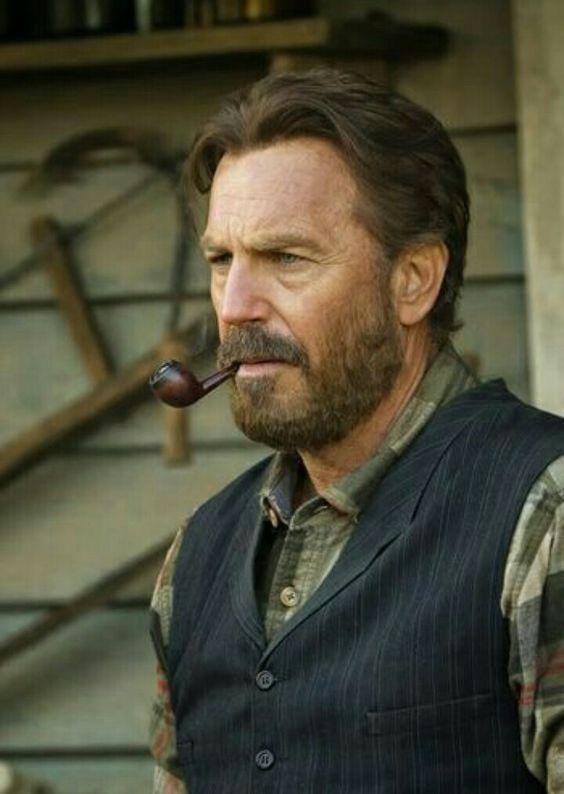trubka: (149, 360, 240, 407)
